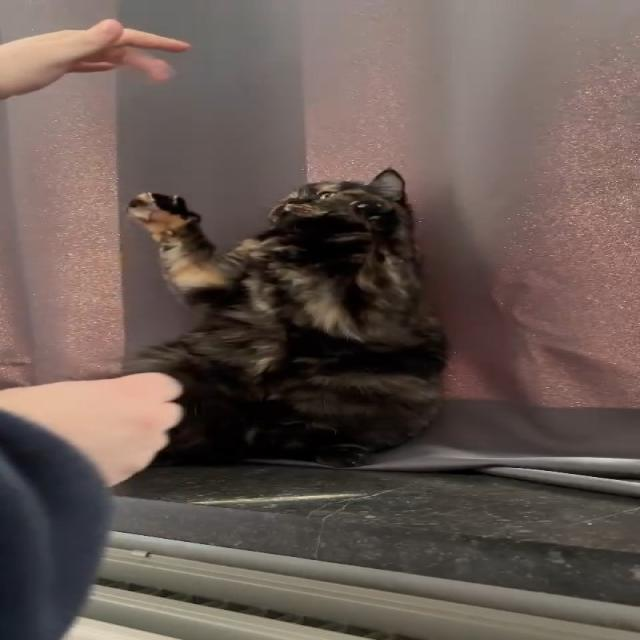authorized: (118, 166, 450, 468)
